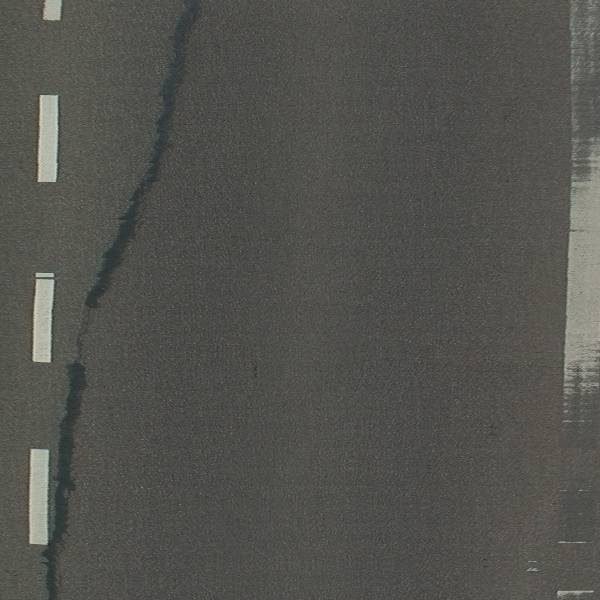road_damage: (86, 1, 204, 316)
